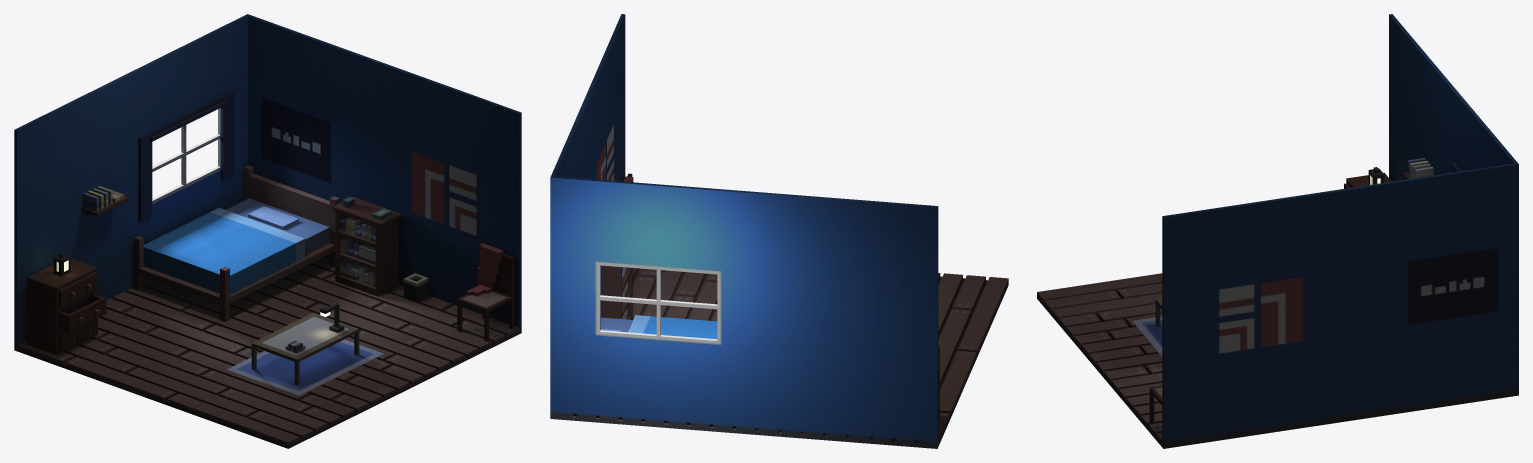
The model's file is room_blue_night.glb.
3 renders of one model, left to right at view 1: azimuth 30°, elevation 25°; view 2: azimuth 150°, elevation 25°; view 3: azimuth 270°, elevation 25°, orthographic. The views are drawn at different scales.
Visible parts, largest first — view 1: bedroom.merged; view 2: bedroom.merged; view 3: bedroom.merged.
Part boxes in pixels (<box>): bedroom.merged: <box>14,14,521,448</box>; bedroom.merged: <box>550,14,1008,448</box>; bedroom.merged: <box>1037,14,1518,448</box>.
Size of the model in its own units: 141 by 74.67 by 141.
3 materials, 1 textured.
